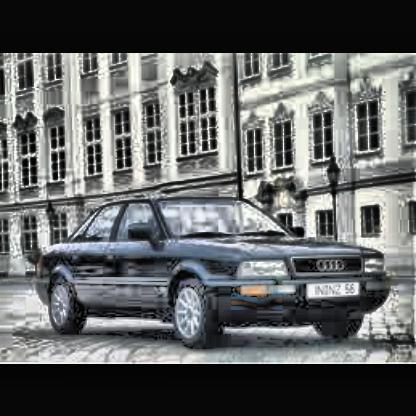Audi 100 Sedan 1994: (39, 198, 395, 355)
